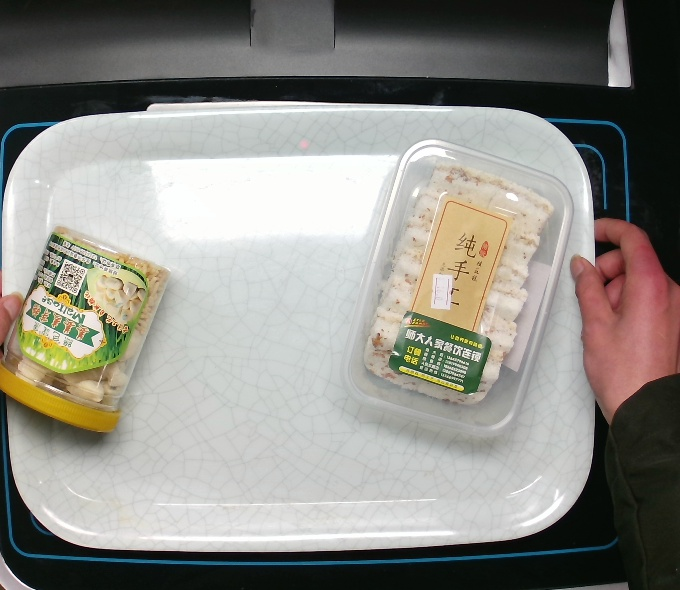wcq-GuiHuaGao: (336, 134, 578, 439)
wcq-MaiYaTang: (1, 218, 174, 436)
